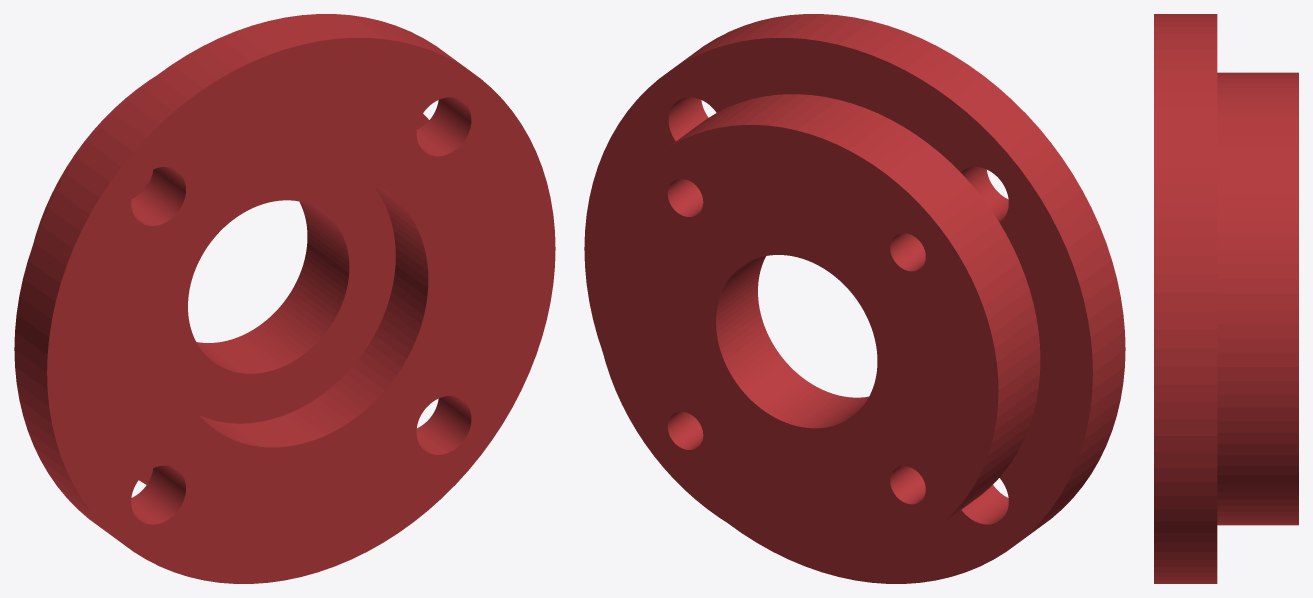
File: mount.obj
3 views of the same model, side by side, from view 1: azimuth 30°, elevation 25°; view 2: azimuth 150°, elevation 25°; view 3: azimuth 270°, elevation 25° (orthographic). The views are drawn at different scales.
Parts seen in each view (by area): view 1: plate_a_iso50, plate_b_pcd39; view 2: plate_b_pcd39, plate_a_iso50; view 3: plate_b_pcd39, plate_a_iso50.
Part boxes in pixels (<box>): plate_a_iso50: <box>14,14,555,583</box>; plate_b_pcd39: <box>34,77,428,484</box>; plate_b_pcd39: <box>595,94,1040,558</box>; plate_a_iso50: <box>584,14,1125,583</box>; plate_b_pcd39: <box>1217,72,1298,525</box>; plate_a_iso50: <box>1154,14,1217,583</box>.
Size of the model in its own units: 0.063 by 0.063 by 0.016.
